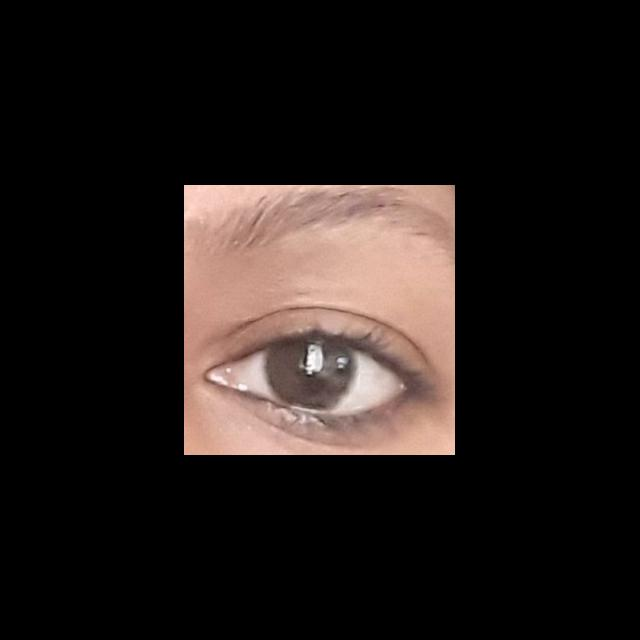eye: (231, 335, 407, 416)
iris: (268, 338, 358, 410)
